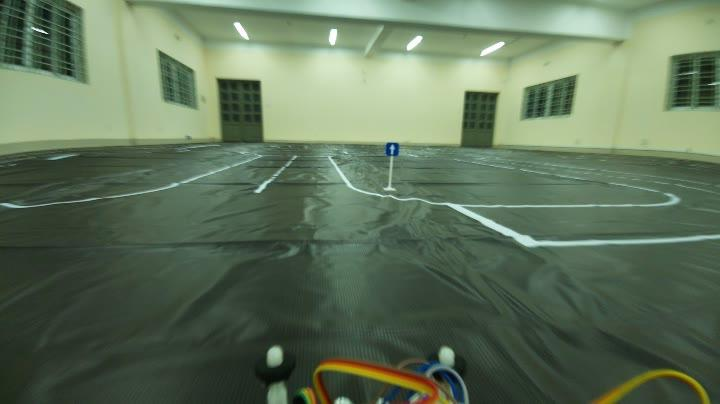onewayroad: (378, 138, 399, 162)
